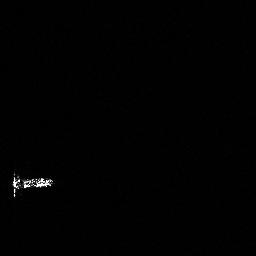ship: (10, 169, 54, 198)
